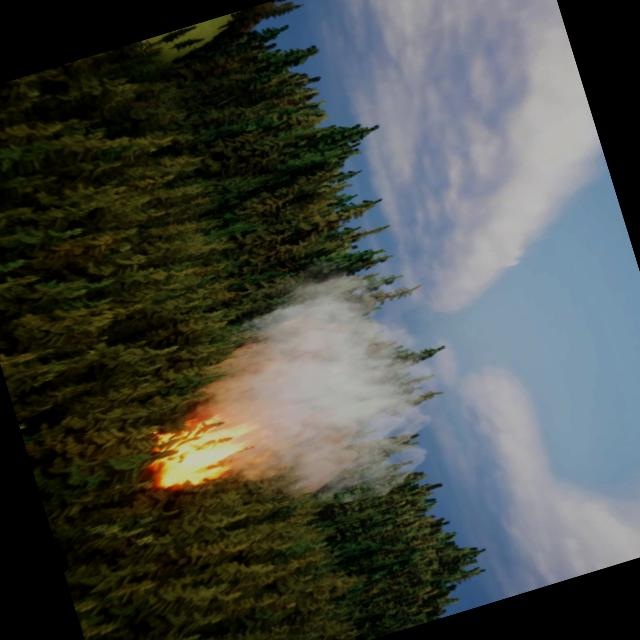fire: (134, 401, 266, 505)
smoke: (175, 248, 474, 544)
